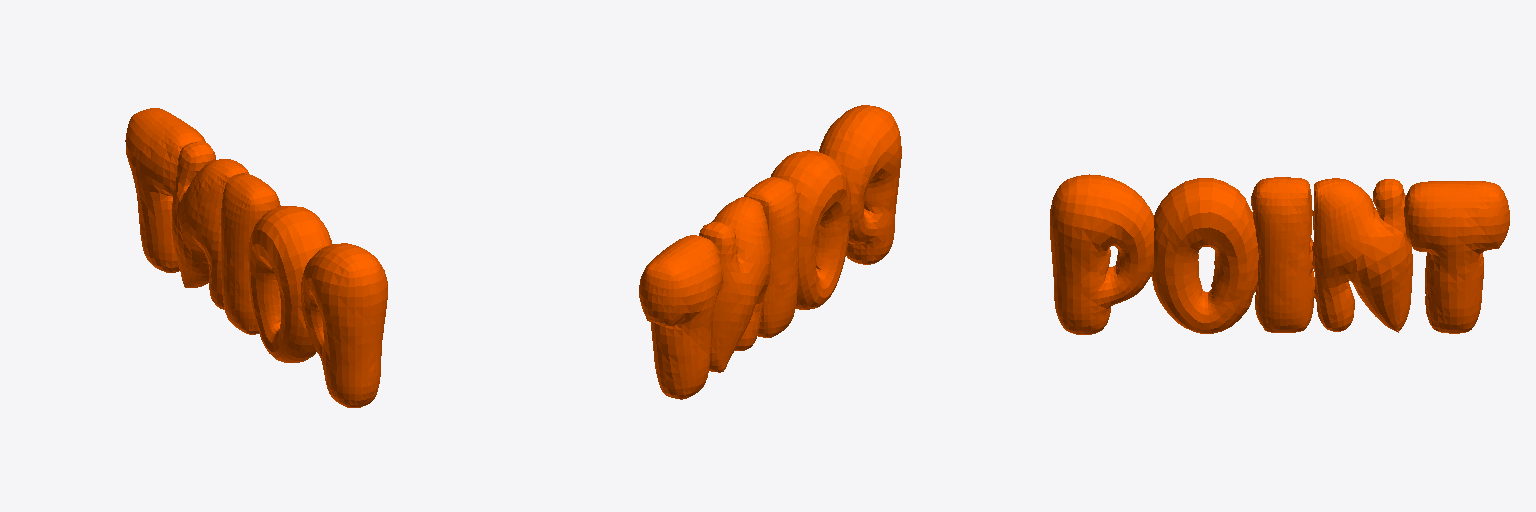
Rendered from 06_point.obj.
3 renders of one model, left to right at view 1: azimuth 30°, elevation 25°; view 2: azimuth 150°, elevation 25°; view 3: azimuth 270°, elevation 25°, orthographic.
Visible parts, largest first — view 1: _point:point; view 2: _point:point; view 3: _point:point.
Boxes of the visible parts, box(x1,y1,x2,y2) form: _point:point: box(125, 108, 387, 407); _point:point: box(639, 105, 901, 399); _point:point: box(1050, 174, 1509, 334).
Bounding box in the file's own units: 0.1484 × 0.3292 × 0.8869.